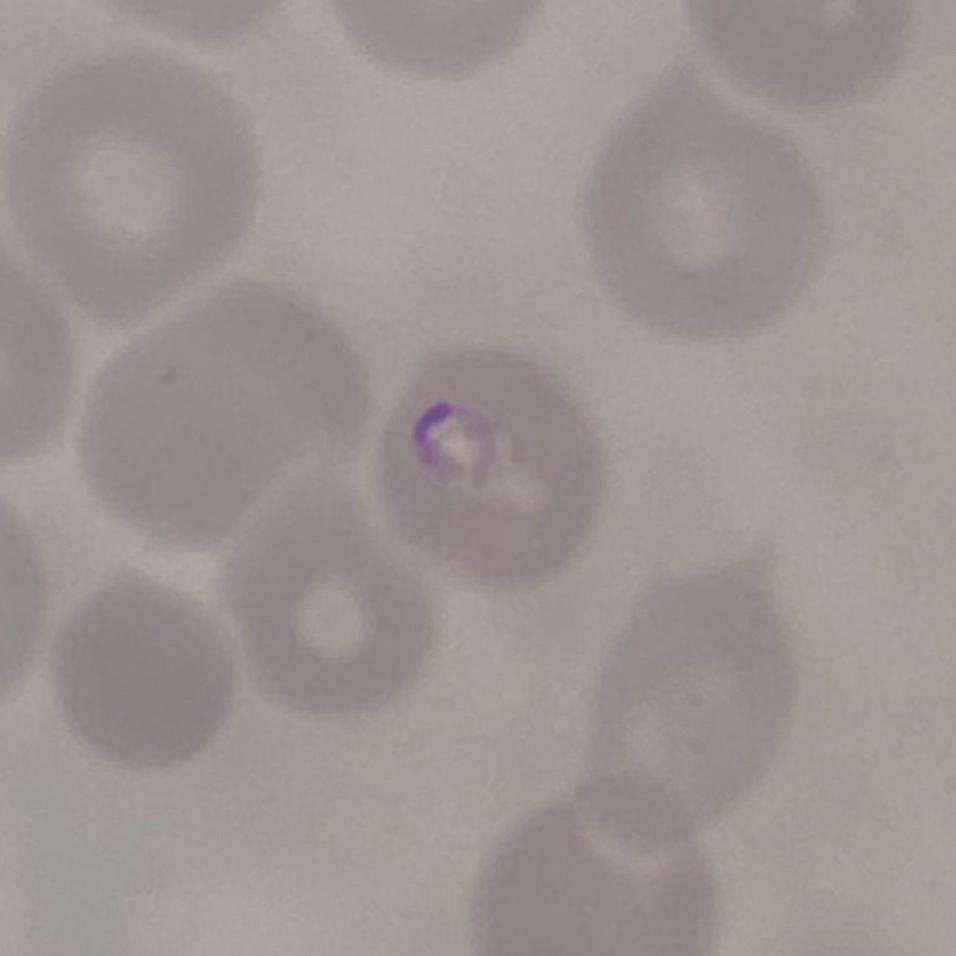Infected: (382, 336, 609, 603)
Uninfected: (73, 283, 371, 550), (587, 538, 804, 868), (0, 56, 256, 328), (588, 56, 828, 343), (213, 471, 431, 720), (470, 776, 726, 956), (42, 566, 229, 775)
